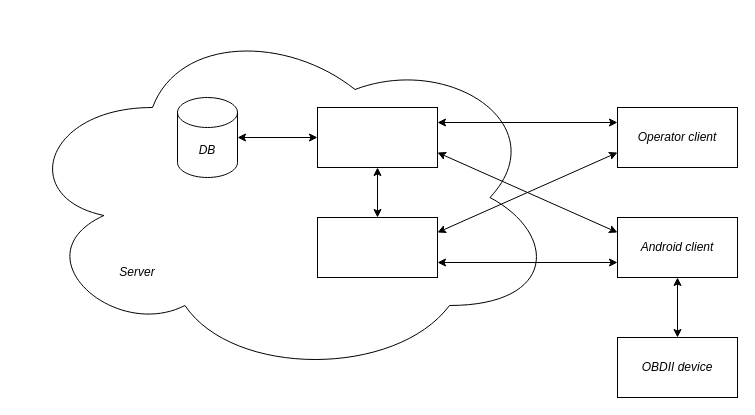
Image size: 755x415. Some labels were removed from this diagram. Here are the shapes that lost their labels. From the top down, the centre of each, then its label:
[377,137]: DB middleware
[377,247]: MQTT-broker
